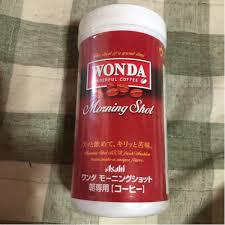beer: (71, 5, 171, 214)
